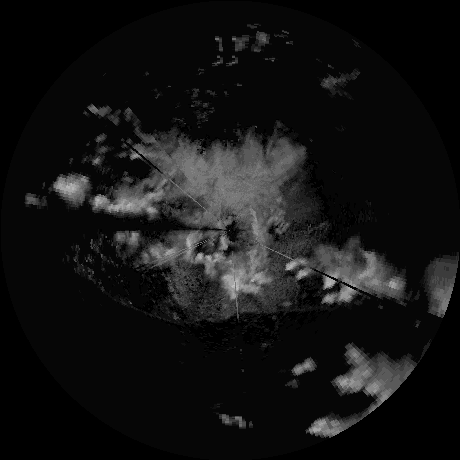frontgust: (76, 252, 194, 328)
